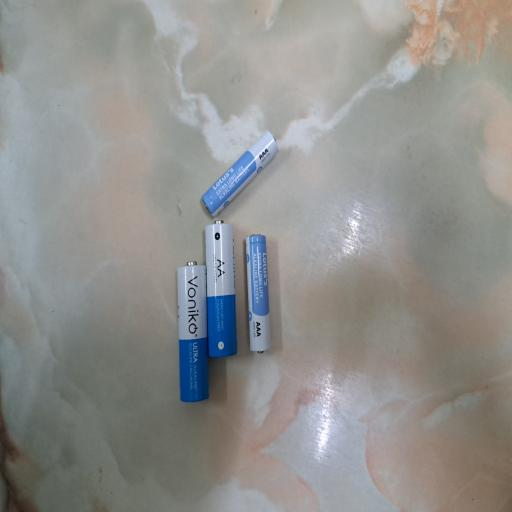battery: (201, 130, 280, 218), (176, 259, 209, 403), (206, 220, 236, 358), (246, 234, 271, 355)
